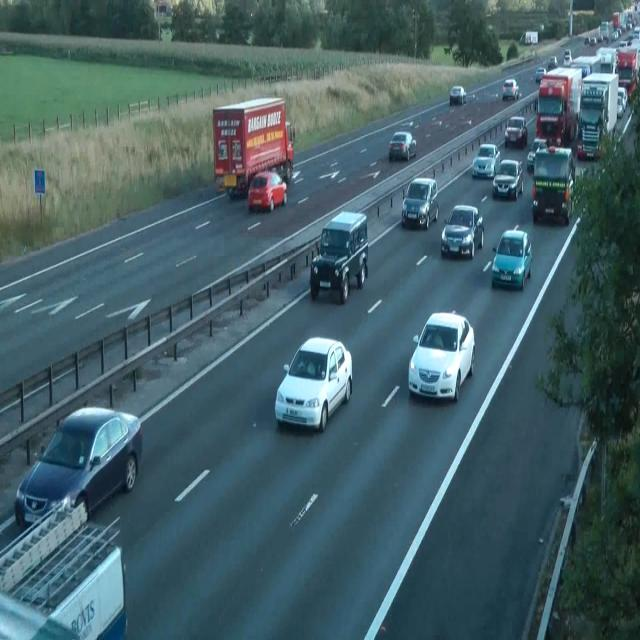bus: (14, 405, 142, 529), (274, 336, 352, 433), (408, 309, 475, 402), (491, 226, 532, 290), (441, 204, 484, 258), (401, 177, 439, 229), (247, 170, 287, 212), (492, 158, 524, 200), (472, 142, 500, 178), (388, 131, 417, 161), (526, 138, 548, 173), (504, 116, 528, 148), (502, 78, 520, 100), (616, 86, 628, 118), (449, 85, 467, 106), (535, 66, 546, 82), (548, 55, 558, 70), (563, 49, 571, 67)
jeep: (309, 210, 369, 303), (531, 145, 575, 224)
minibus: (0, 498, 127, 639), (212, 96, 294, 197), (534, 66, 582, 146), (576, 71, 618, 160), (616, 37, 640, 100), (153, 0, 173, 24), (519, 30, 538, 44)
